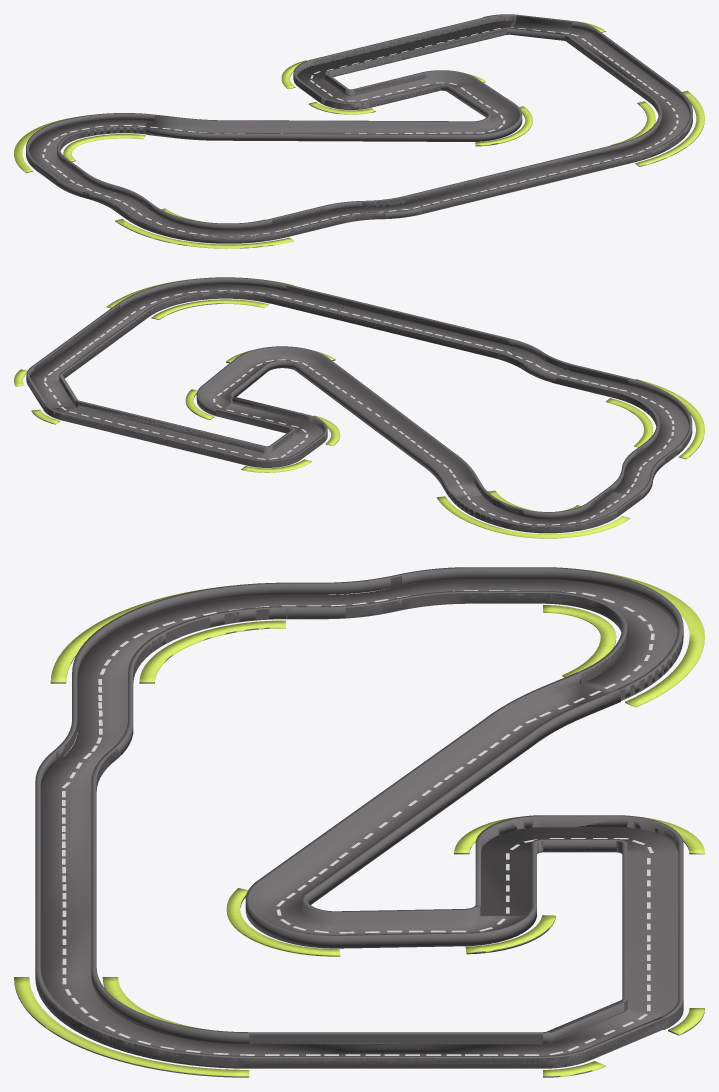
File: racetrackV2 rine.dae
The picture shows the model from 3 angles, top to bottom: view 1: azimuth 30°, elevation 25°; view 2: azimuth 150°, elevation 25°; view 3: azimuth 270°, elevation 25°; orthographic projection. The views are drawn at different scales.
Visible parts, largest first — view 1: track race v1 v2; view 2: track race v1 v2; view 3: track race v1 v2.
Part boxes in pixels (x1,y1,x2,y2): track race v1 v2: (14,14,704,248); track race v1 v2: (14,277,704,538); track race v1 v2: (14,567,704,1077).
Size of the model in its own units: 328 by 188 by 3.4.
